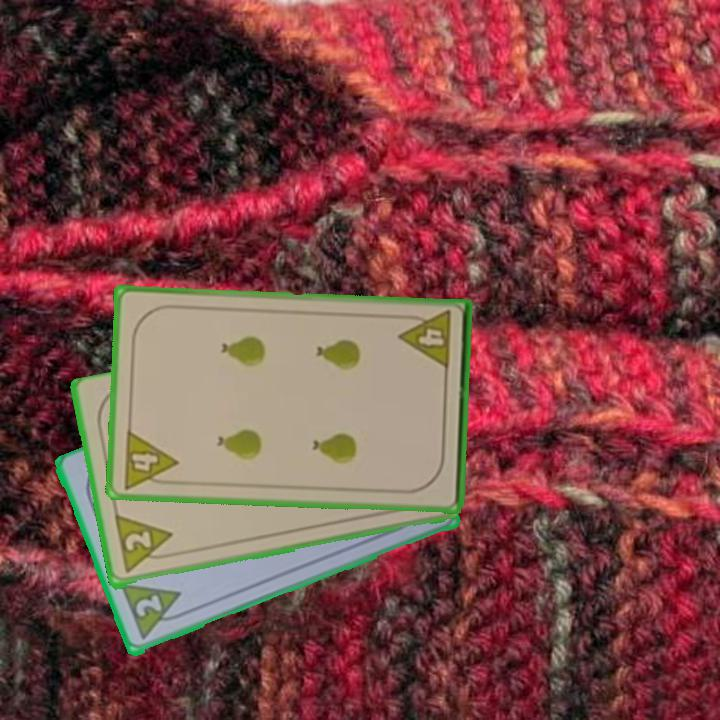2p: (117, 580, 191, 644), (111, 513, 178, 577)
4p: (119, 426, 180, 492), (396, 307, 454, 373)
